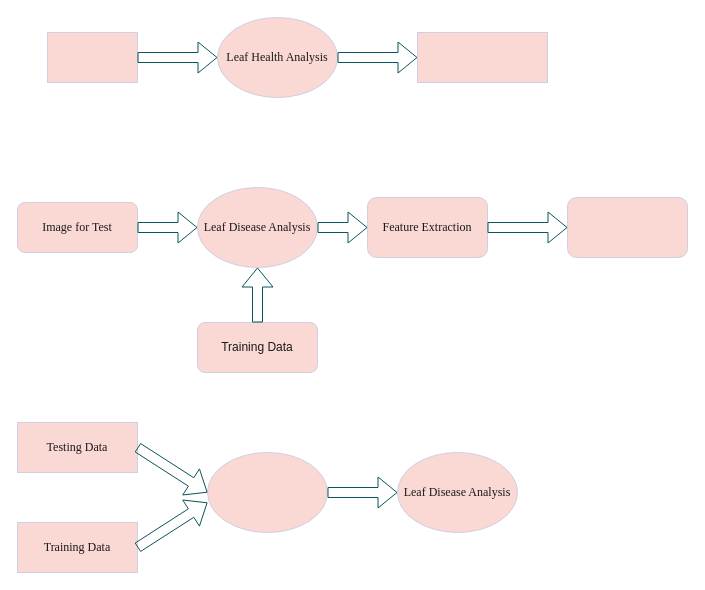
This 705x590 diagram has some shape labels left out. The centre of each missing label's shape, as x and y in pixels:
"CNN Model" goes at point 267,492.
"Disease Classification" goes at point 482,57.
"Prediction Of Leaf Disease" goes at point 627,227.
"User" goes at point 92,57.
